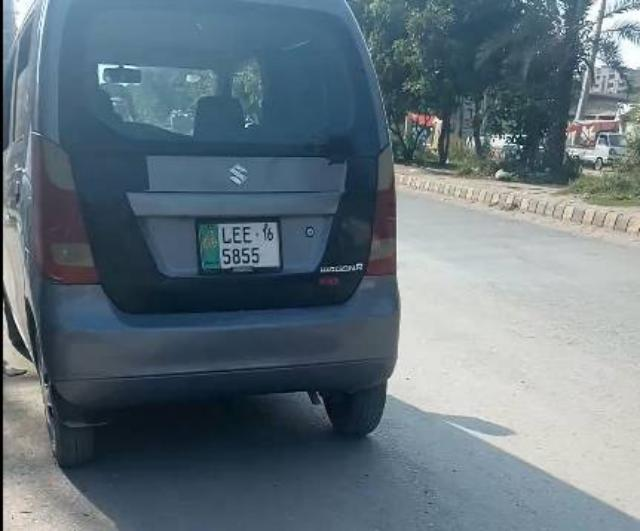plate: (190, 216, 288, 272)
